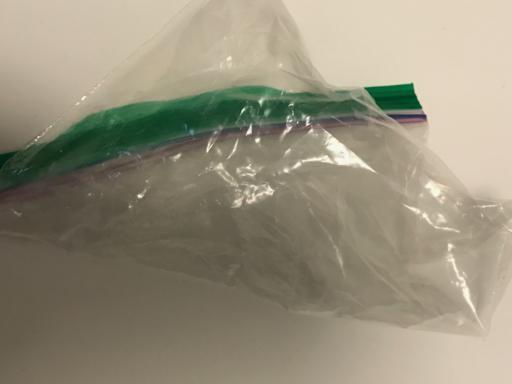trash: (1, 6, 511, 337)
